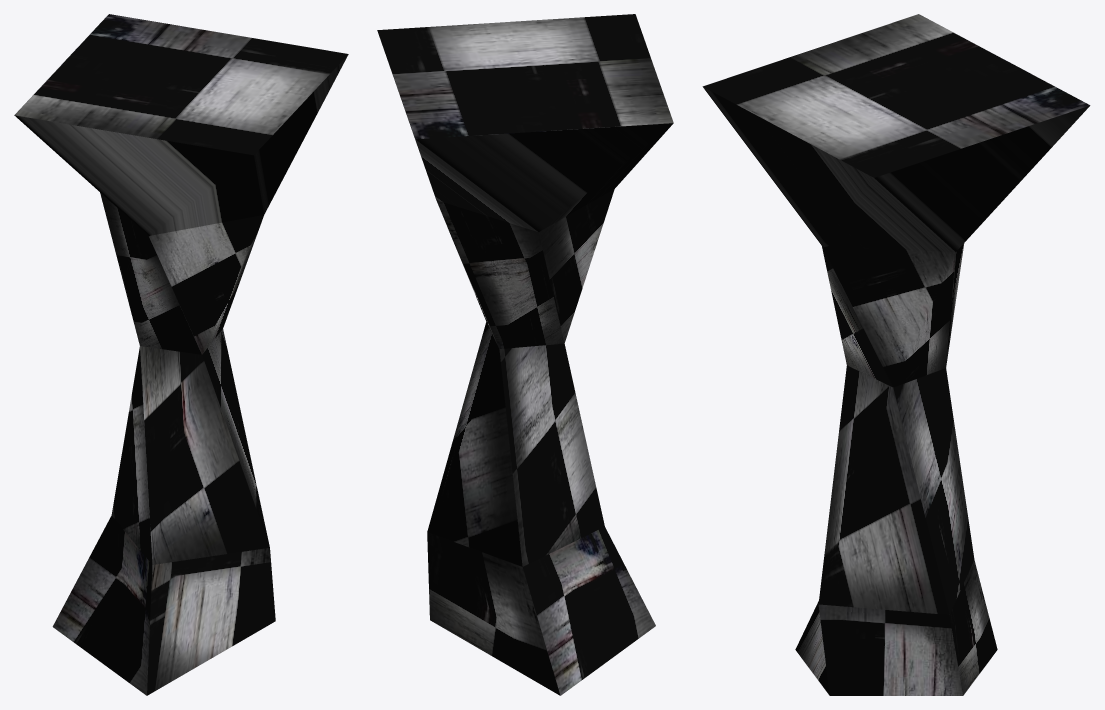
Rendered from R2_Obstacle.obj.
3 views of the same model, side by side, from view 1: azimuth 30°, elevation 25°; view 2: azimuth 150°, elevation 25°; view 3: azimuth 270°, elevation 25° (orthographic). The views are drawn at different scales.
Parts seen in each view (by area): view 1: Cube.001_Cube.002; view 2: Cube.001_Cube.002; view 3: Cube.001_Cube.002.
Part boxes in pixels (x1,y1,x2,y2): Cube.001_Cube.002: (14,14,348,695); Cube.001_Cube.002: (377,14,673,695); Cube.001_Cube.002: (702,14,1090,695).
Size of the model in its own units: 3.84 by 6.51 by 3.84.
Materials: 1 (1 with a texture image).
